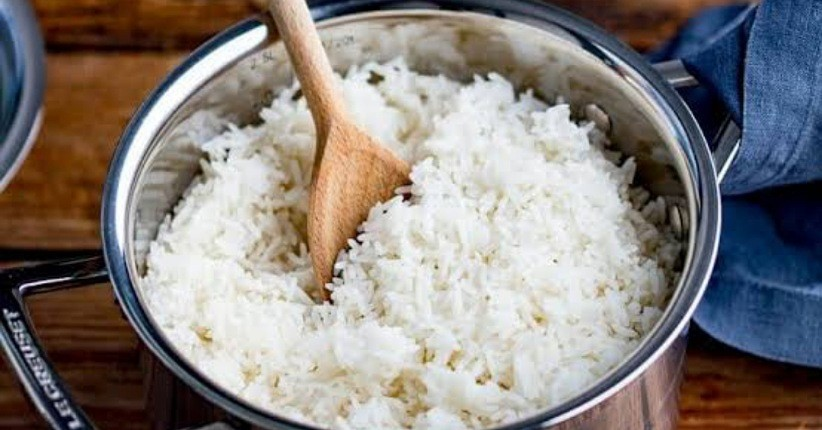Nasi Putih: (116, 65, 619, 412)
